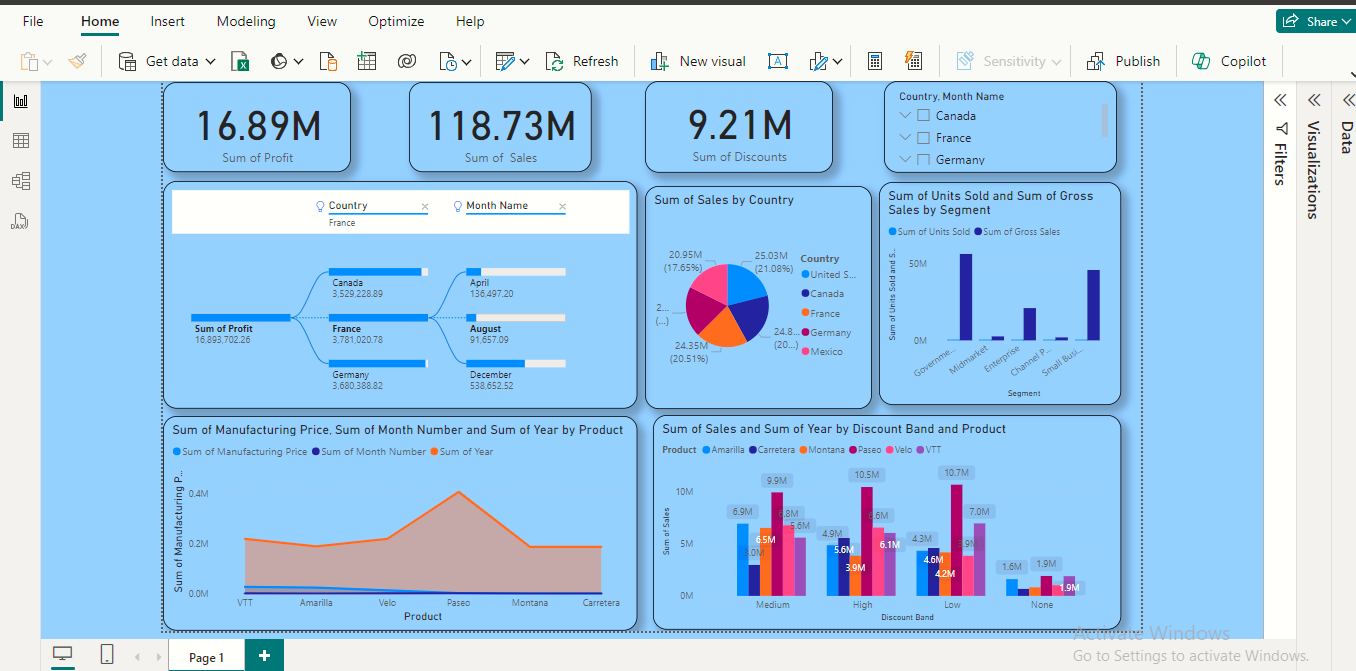

Layout of this report page (visuals, bound fields, positions):
{"tool":"powerbi","page":{"name":"Page 1","canvas":[1280,720],"ordinal":0},"visuals":[{"type":"pieChart","fields":{"Y":["Sum(Sheet1. Sales)"],"Category":["Sheet1.Country"]},"box":[630.7,136.8,296.6,292.3],"z":0},{"type":"actionButton","box":[0,0,100,40],"z":1000},{"type":"card","fields":{"Values":["Sum(Sheet1.Profit)"]},"box":[0,1.4,246.2,118.1],"z":2000},{"type":"card","fields":{"Values":["Sum(Sheet1. Sales)"]},"box":[322.6,1.4,239,118.1],"z":3000},{"type":"card","fields":{"Values":["Sum(Sheet1.Discounts)"]},"box":[630.7,0,246.2,119.5],"z":4000},{"type":"decompositionTreeVisual","fields":{"ExplainBy":["Sheet1.Country","Sheet1.Month Name"],"Analyze":["Sum(Sheet1.Profit)"]},"box":[0,131,620.6,298.1],"z":5000},{"type":"areaChart","fields":{"Y":["Sum(Sheet1.Manufacturing Price)","Sum(Sheet1.Month Number)","Sum(Sheet1.Year)"],"Category":["Sheet1.Product"]},"box":[0,439,621,281],"z":6000},{"type":"clusteredColumnChart","fields":{"Category":["Sheet1.Discount Band"],"Y":["Sum(Sheet1. Sales)"],"Series":["Sheet1.Product"]},"box":[640.8,437.8,613.4,280.8],"z":7000},{"type":"lineClusteredColumnComboChart","fields":{"Category":["Sheet1.Segment"],"Y":["Sum(Sheet1.Units Sold)","Sum(Sheet1.Gross Sales)"]},"box":[937.4,132.5,316.8,292.3],"z":8000},{"type":"slicer","fields":{"Values":["Sheet1.Country","Sheet1.Month Name"]},"box":[943.2,0,305.3,119.5],"z":9000}]}

Visuals, with their boxes on the page's 1280x720 design canvas (x1, y1, x2, y2). These are canvas units, not pixel positions in the 1356x671 screenshot, which may show the page scaled, cropped or inside an application window:
pieChart - Sum(Sheet1. Sales) x Sheet1.Country: (631, 137, 927, 429)
actionButton: (0, 0, 100, 40)
card - Sum(Sheet1.Profit): (0, 1, 246, 120)
card - Sum(Sheet1. Sales): (323, 1, 562, 120)
card - Sum(Sheet1.Discounts): (631, 0, 877, 120)
decompositionTreeVisual - Sheet1.Country x Sheet1.Month Name: (0, 131, 621, 429)
areaChart - Sum(Sheet1.Manufacturing Price) x Sum(Sheet1.Month Number): (0, 439, 621, 720)
clusteredColumnChart - Sheet1.Discount Band x Sum(Sheet1. Sales): (641, 438, 1254, 719)
lineClusteredColumnComboChart - Sheet1.Segment x Sum(Sheet1.Units Sold): (937, 132, 1254, 425)
slicer - Sheet1.Country x Sheet1.Month Name: (943, 0, 1248, 120)
